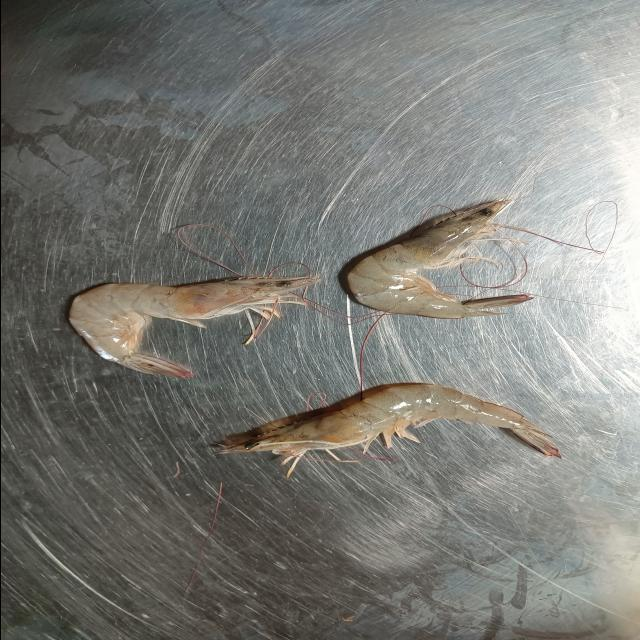shrimp: (217, 384, 558, 459), (69, 278, 319, 379), (346, 199, 532, 319)
